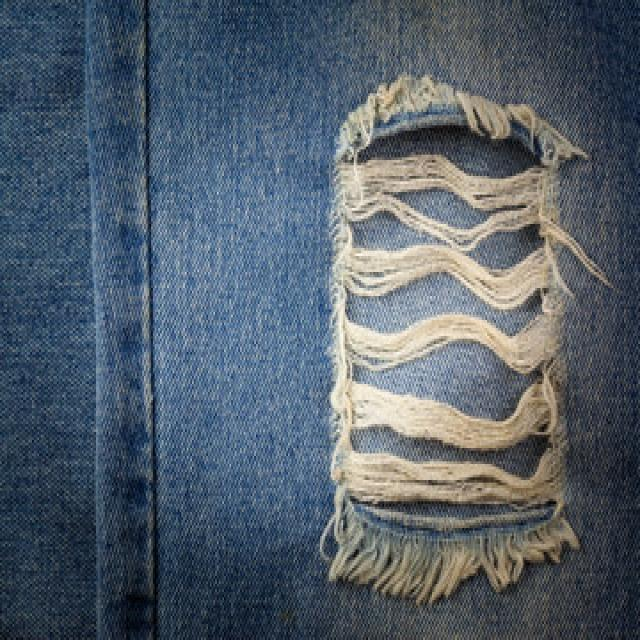Hole: (321, 75, 608, 604)
